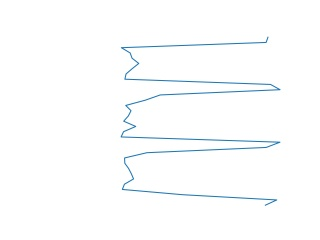majorRiverChannelBar: (115, 34, 286, 208)
